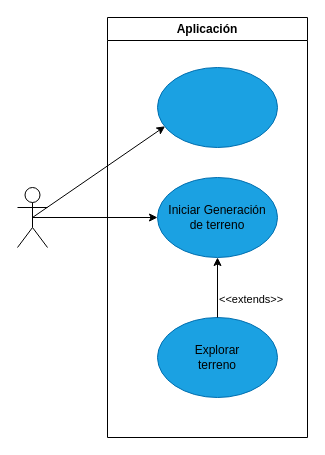
The diagram is 325 pixels wide and 455 high, and some of its shapes have lost their labels. Each missing label, with the centre of its shape:
"Actor" belongs at point 32,217.
"Configuración del mapa" belongs at point 217,107.
